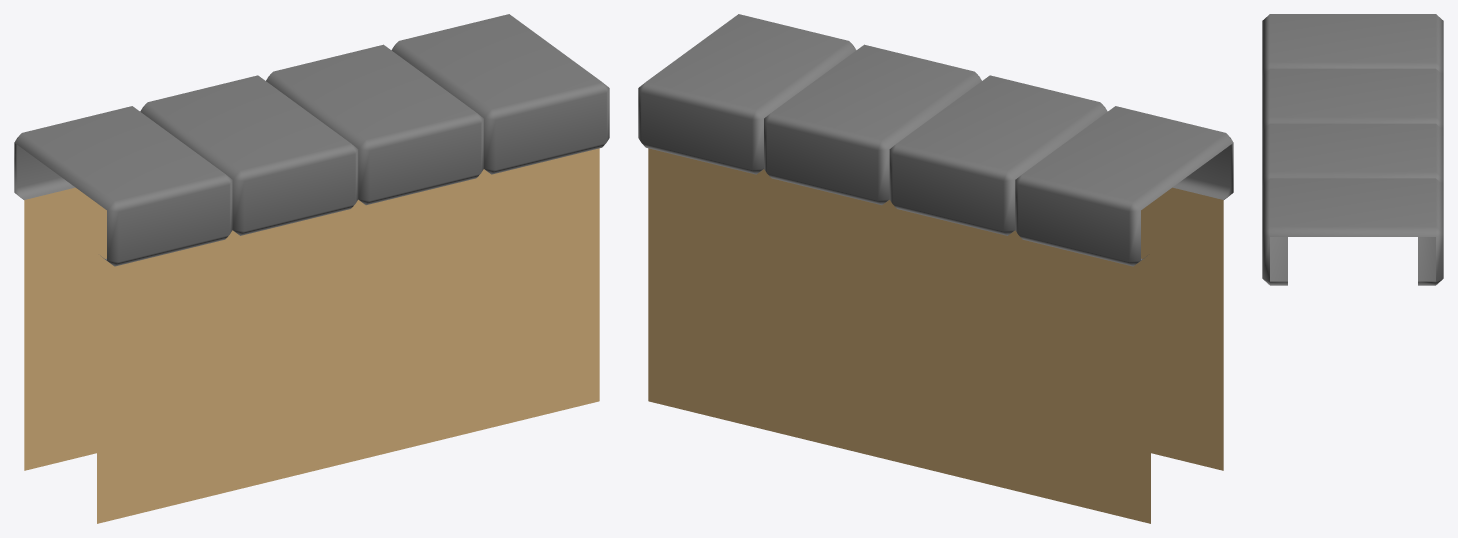
The model's file is SM_WallB_4x2_LOD0.fbx.
3 views of the same model, side by side, from view 1: azimuth 30°, elevation 25°; view 2: azimuth 150°, elevation 25°; view 3: azimuth 270°, elevation 25° (orthographic). The views are drawn at different scales.
Visible parts, largest first — view 1: SM_WallB_4x2_LOD0; view 2: SM_WallB_4x2_LOD0; view 3: SM_WallB_4x2_LOD0.
Boxes of the visible parts, <box> form: SM_WallB_4x2_LOD0: <box>14,14,609,523</box>; SM_WallB_4x2_LOD0: <box>638,14,1233,523</box>; SM_WallB_4x2_LOD0: <box>1262,14,1443,285</box>.
Bounding box in the file's own units: 4 × 2.5 × 1.4.
